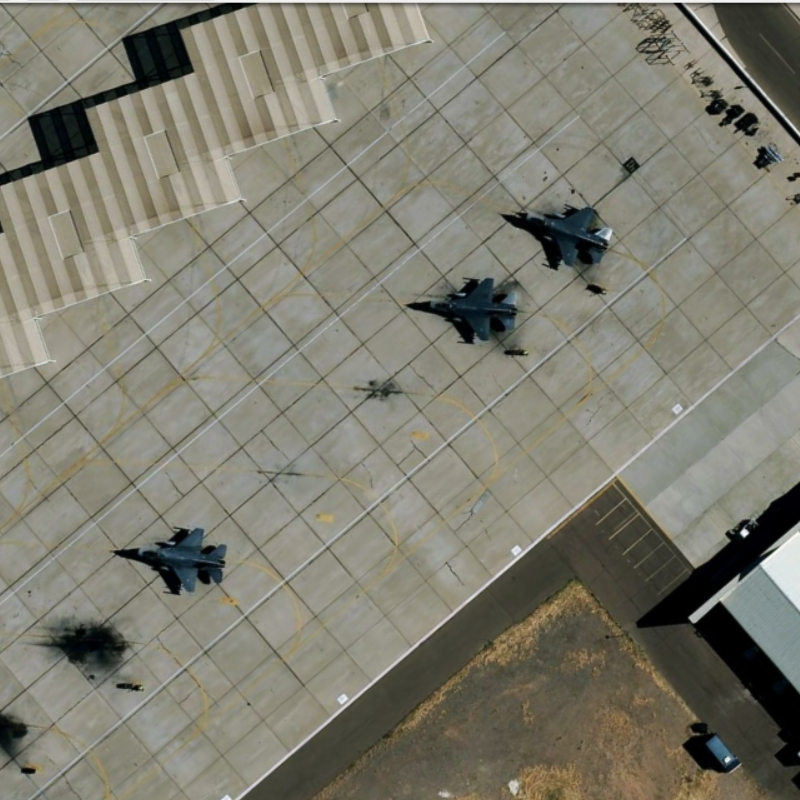A5: (399, 270, 524, 348), (502, 192, 619, 275), (106, 523, 234, 592)
